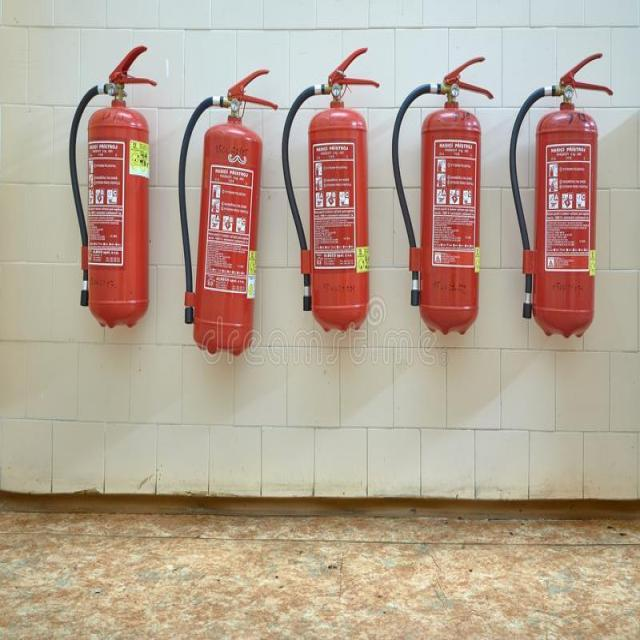fire_extinguisher: (506, 48, 616, 342), (174, 67, 280, 357), (278, 43, 382, 333), (390, 52, 495, 336), (66, 42, 159, 334)
